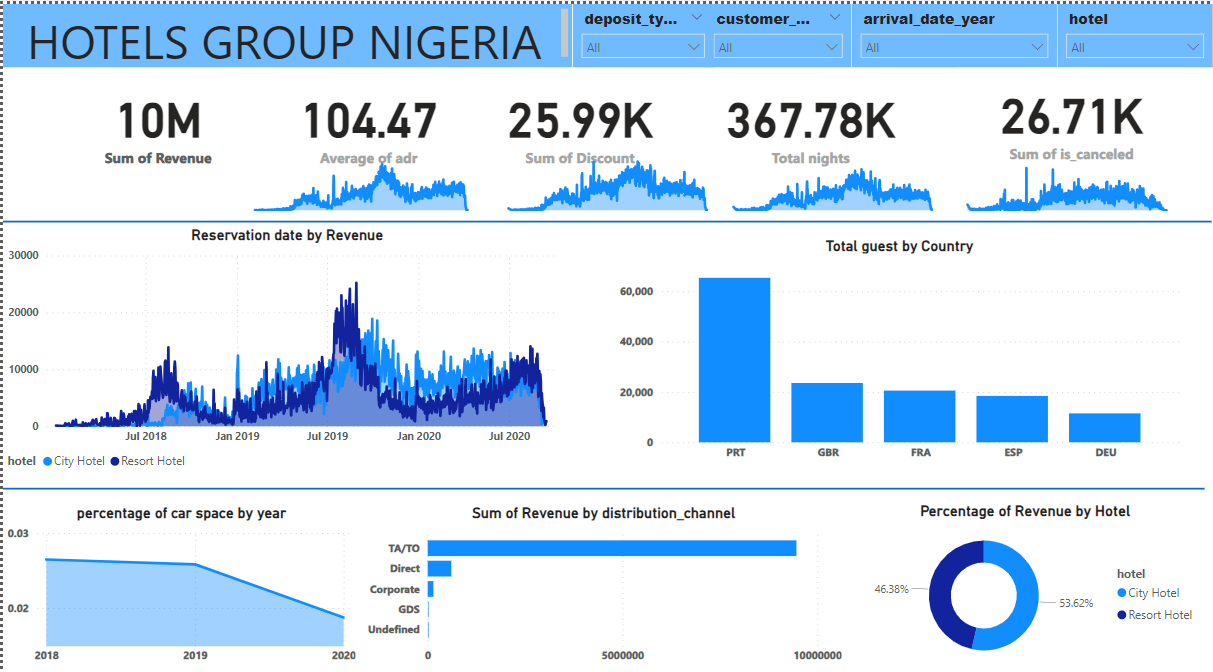

The page's visual inventory and layout, read from the dashboard file:
{"tool":"powerbi","page":{"name":"Page 1","canvas":[1378,760],"ordinal":0},"visuals":[{"type":"shape","box":[0,224,1376,48],"z":0},{"type":"shape","box":[0,504,1368,96],"z":1000},{"type":"card","fields":{"Values":["Sum(Query1.Revenue)"]},"box":[80,80,192,112],"z":2000},{"type":"card","fields":{"Values":["Avg(Query1.adr)"]},"box":[304,80,224,112],"z":3000},{"type":"card","fields":{"Values":["Sum(Query1.Discount)"]},"box":[544,80,224,112],"z":4000},{"type":"slicer","fields":{"Values":["Query1.hotel"]},"box":[1200,0,176.7,71.7],"z":5000},{"type":"slicer","fields":{"Values":["Query1.arrival_date_year"]},"box":[966.7,0,233.3,71.7],"z":6000},{"type":"slicer","fields":{"Values":["Query1.customer_type"]},"box":[800,0,166.7,71.7],"z":7000},{"type":"card","fields":{"Values":["Query1.Total nights"]},"box":[800,80,240,112],"z":8000},{"type":"areaChart","title":"Reservation date by Revenue","fields":{"Y":["Sum(Query1.Revenue)"],"Category":["Query1.reservation_status_date"],"Series":["Query1.hotel"]},"box":[0,252.8,647.3,286.9],"z":9000},{"type":"areaChart","fields":{"Y":["Sum(Query1.adr)"],"Category":["Query1.reservation_status_date"]},"box":[272,160,272,80],"z":10000},{"type":"areaChart","fields":{"Y":["Sum(Query1.Discount)"],"Category":["Query1.reservation_status_date"]},"box":[560,160,256,80],"z":10001},{"type":"areaChart","fields":{"Y":["Query1.Total nights"],"Category":["Query1.reservation_status_date"]},"box":[816,160,256,80],"z":10002},{"type":"donutChart","title":"Percentage of Revenue by Hotel","fields":{"Y":["Sum(Query1.Revenue)"],"Category":["Query1.hotel"]},"box":[959.8,567,408.2,193],"z":10003},{"type":"card","title":"total","fields":{"Values":["Sum(Query1.is_canceled)"]},"box":[1088.3,71.7,256.7,120],"z":10004},{"type":"areaChart","fields":{"Y":["Sum(Query1.is_canceled)"],"Category":["Query1.reservation_status_date"]},"box":[1083.3,160,256.7,80],"z":10005},{"type":"columnChart","title":"Total guest by Country","fields":{"Category":["Query1.country"],"Y":["Query1.total guest"]},"box":[696,264,648,264],"z":10006},{"type":"barChart","fields":{"Y":["Sum(Query1.Revenue)"],"Category":["Query1.distribution_channel"]},"box":[408.2,568.7,551.6,191.3],"z":10007},{"type":"slicer","fields":{"Values":["Query1.deposit_type"]},"box":[648.3,0,160,71.7],"z":10008},{"type":"textbox","box":[0,0,648,72],"z":10010},{"type":"stackedAreaChart","title":"percentage of car space by year","fields":{"Category":["Query1.arrival_date_year"],"Y":["Query1.percentage of car space"]},"box":[0,568.7,406.5,191.3],"z":10011}]}

Visuals, with their boxes in screenshot pixels (x1, y1, x2, y2), scaled from the page's 1378x760 canvas onto the 1213x672 screenshot:
shape: (0, 198, 1211, 241)
shape: (0, 446, 1204, 531)
card - Sum(Query1.Revenue): (70, 71, 239, 170)
card - Avg(Query1.adr): (268, 71, 465, 170)
card - Sum(Query1.Discount): (479, 71, 676, 170)
slicer - Query1.hotel: (1056, 0, 1212, 63)
slicer - Query1.arrival_date_year: (851, 0, 1056, 63)
slicer - Query1.customer_type: (704, 0, 851, 63)
card - Query1.Total nights: (704, 71, 915, 170)
"Reservation date by Revenue" areaChart: (0, 224, 570, 477)
areaChart - Sum(Query1.adr) x Query1.reservation_status_date: (239, 141, 479, 212)
areaChart - Sum(Query1.Discount) x Query1.reservation_status_date: (493, 141, 718, 212)
areaChart - Query1.Total nights x Query1.reservation_status_date: (718, 141, 944, 212)
"Percentage of Revenue by Hotel" donutChart: (845, 501, 1204, 671)
"total" card: (958, 63, 1184, 170)
areaChart - Sum(Query1.is_canceled) x Query1.reservation_status_date: (954, 141, 1180, 212)
"Total guest by Country" columnChart: (613, 233, 1183, 467)
barChart - Sum(Query1.Revenue) x Query1.distribution_channel: (359, 503, 845, 671)
slicer - Query1.deposit_type: (571, 0, 712, 63)
textbox: (0, 0, 570, 64)
"percentage of car space by year" stackedAreaChart: (0, 503, 358, 671)
